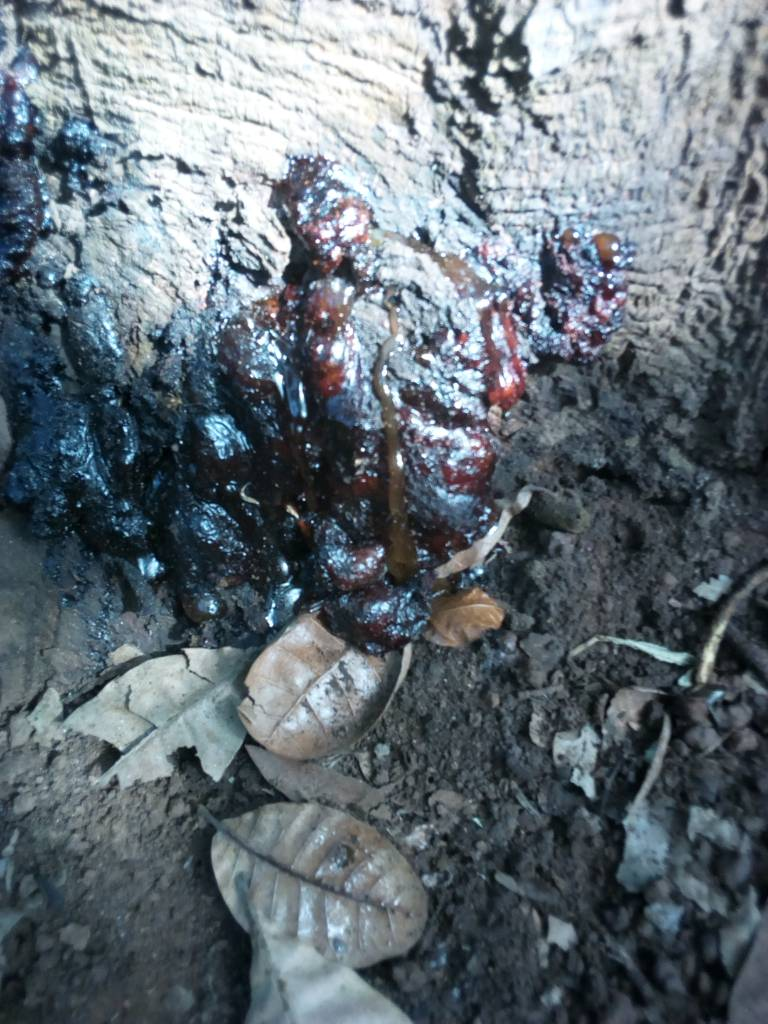Mecocorynus longiceps: (137, 141, 666, 723)
